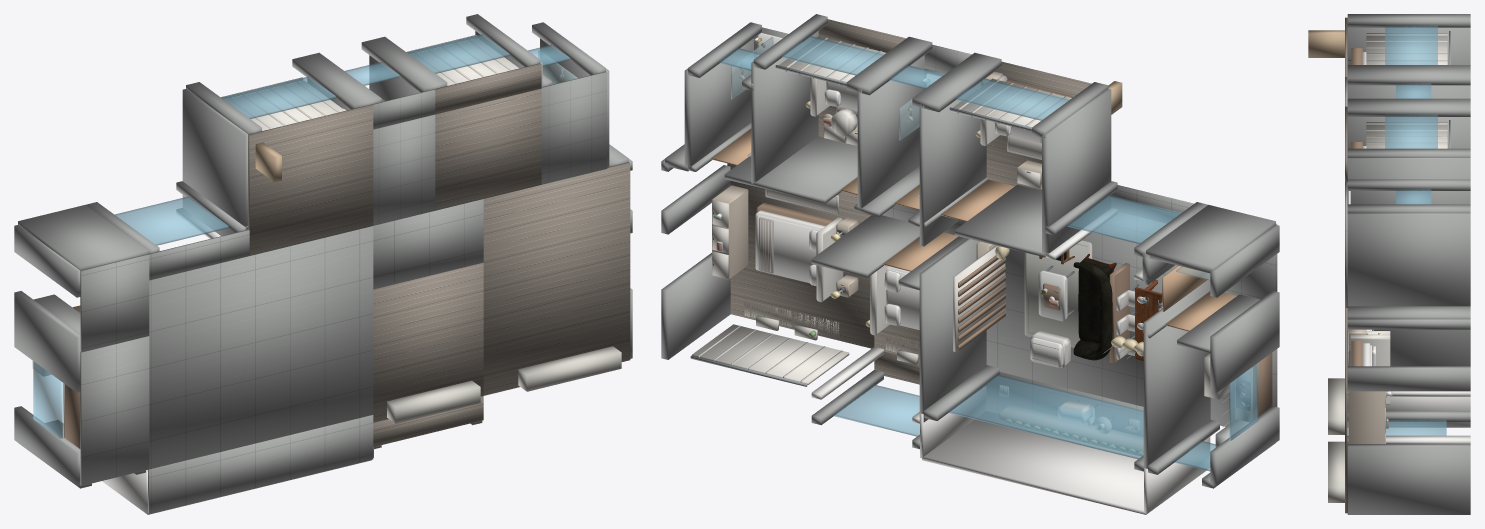
Rendered from apartment_floorplan.glb.
The picture shows the model from 3 angles, left to right: view 1: azimuth 30°, elevation 25°; view 2: azimuth 150°, elevation 25°; view 3: azimuth 270°, elevation 25°; orthographic projection.
Parts seen in each view (by area): view 1: Floor_______24_9m2, Floor______17_7m2, Floor_____2_9_1m2, Floor______8_8m2, Floor_____1_6_5m2, Floor______8_7m2, Floor______5_8m2, Floor______3_4m2, Bedroom_2_west_wall, Floor______4_0m2, Floor_______3_8m2, Floor______3_5m2 (+30 smaller); view 2: Balcony_rail, Floor_______24_9m2, Floor______17_7m2, Balcony_sliding_doors, Kitchen_entry_living_partition, Bedroom_2_west_wall, Bathroom_bedroom_1_partition, Central_west_partition, Central_west_partition1, Bedroom_1_master_bath_partition, Master_bath_east_wall, Entry_north_facade (+67 smaller); view 3: Master_bath_east_wall, East_facade, Bedroom_1_master_bath_partition, East_facade1, Central_west_partition, North_facade1, North_facade2, Bedroom_2_window, Refine_main_wall_storage_cabinet, Refine_upper_left_sheer_curtain, Bedroom_1_window, Bedroom_2_west_wall (+25 smaller).
Part boxes in pixels (left/top/right/bottom): Floor_______24_9m2: left=149, top=226, right=373, bottom=469; Floor______17_7m2: left=483, top=162, right=630, bottom=395; Floor_____2_9_1m2: left=248, top=104, right=373, bottom=255; Floor______8_8m2: left=373, top=262, right=483, bottom=422; Floor_____1_6_5m2: left=435, top=88, right=541, bottom=210; Floor______8_7m2: left=148, top=415, right=373, bottom=513; Floor______5_8m2: left=80, top=336, right=149, bottom=485; Floor______3_4m2: left=373, top=199, right=483, bottom=289; Bedroom_2_west_wall: left=182, top=89, right=248, bottom=235; Floor______4_0m2: left=541, top=71, right=607, bottom=184; Floor_______3_8m2: left=373, top=114, right=435, bottom=225; Floor______3_5m2: left=80, top=254, right=149, bottom=352; Balcony_rail: left=922, top=411, right=1199, bottom=514; Floor_______24_9m2: left=986, top=212, right=1177, bottom=406; Floor______17_7m2: left=727, top=163, right=874, bottom=348; Balcony_sliding_doors: left=948, top=374, right=1143, bottom=458; Kitchen_entry_living_partition: left=1143, top=279, right=1210, bottom=468; Bedroom_2_west_wall: left=1042, top=89, right=1111, bottom=255; Bathroom_bedroom_1_partition: left=857, top=55, right=924, bottom=209; Central_west_partition: left=919, top=238, right=986, bottom=422; Central_west_partition1: left=919, top=82, right=986, bottom=246; Bedroom_1_master_bath_partition: left=751, top=31, right=818, bottom=183; Master_bath_east_wall: left=684, top=38, right=753, bottom=168; Entry_north_facade: left=1146, top=205, right=1275, bottom=273; Master_bath_east_wall: left=1347, top=213, right=1470, bottom=306; East_facade: left=1347, top=444, right=1470, bottom=514; Bedroom_1_master_bath_partition: left=1347, top=158, right=1470, bottom=204; East_facade1: left=1347, top=366, right=1470, bottom=391; Central_west_partition: left=1347, top=329, right=1470, bottom=366; North_facade1: left=1347, top=65, right=1470, bottom=85; North_facade2: left=1347, top=98, right=1470, bottom=116; Bedroom_2_window: left=1385, top=25, right=1437, bottom=64; Refine_main_wall_storage_cabinet: left=1348, top=391, right=1385, bottom=443; Refine_upper_left_sheer_curtain: left=1366, top=33, right=1447, bottom=64; Bedroom_1_window: left=1385, top=114, right=1437, bottom=148; Bedroom_2_west_wall: left=1347, top=27, right=1470, bottom=64.
Size of the model in its own units: 14380 by 8890 by 3700.
53 materials, 10 textured.
